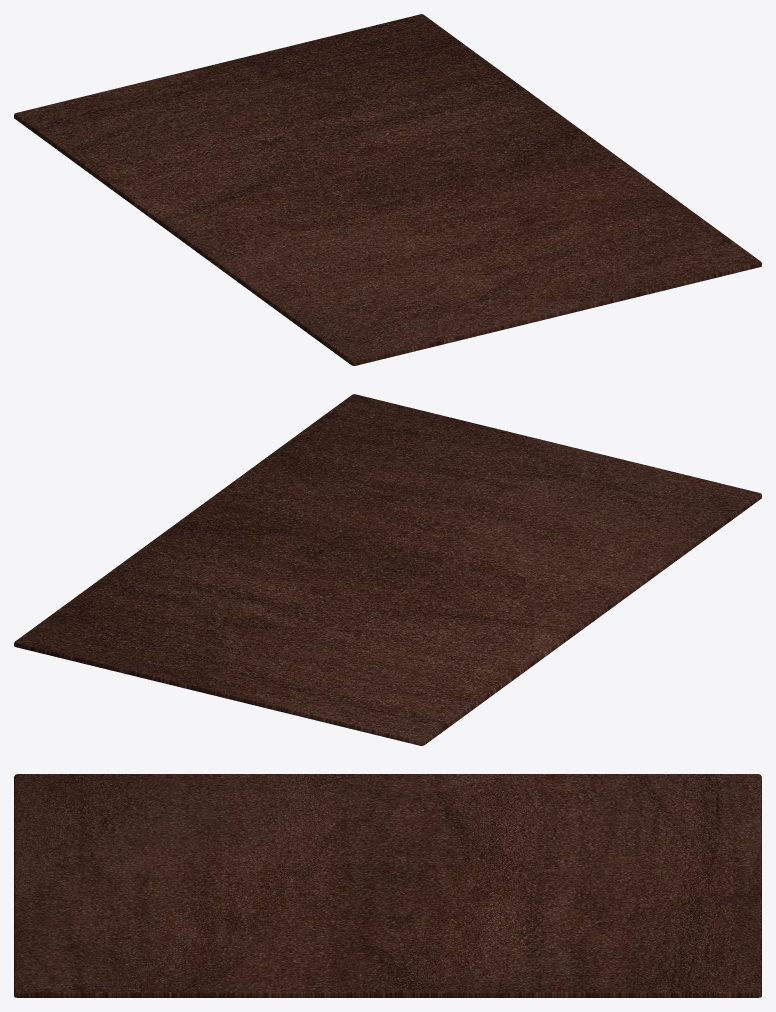
File: brevbarare_dywan_z_dugim_wosiem_00632121.glb
3 views of the same model, one above another, from view 1: azimuth 30°, elevation 25°; view 2: azimuth 150°, elevation 25°; view 3: azimuth 270°, elevation 25° (orthographic). The views are drawn at different scales.
Parts seen in each view (by area): view 1: brevbarare_dywan_z_dugim_wosiem_00632121; view 2: brevbarare_dywan_z_dugim_wosiem_00632121; view 3: brevbarare_dywan_z_dugim_wosiem_00632121.
Boxes of the visible parts, x1,y1,x2,y2 form: brevbarare_dywan_z_dugim_wosiem_00632121: (14,14,761,365); brevbarare_dywan_z_dugim_wosiem_00632121: (14,394,761,745); brevbarare_dywan_z_dugim_wosiem_00632121: (14,774,761,997).
Bounding box in the file's own units: 1.6 × 0.018 × 2.3.
Materials: 1 (1 with a texture image).
